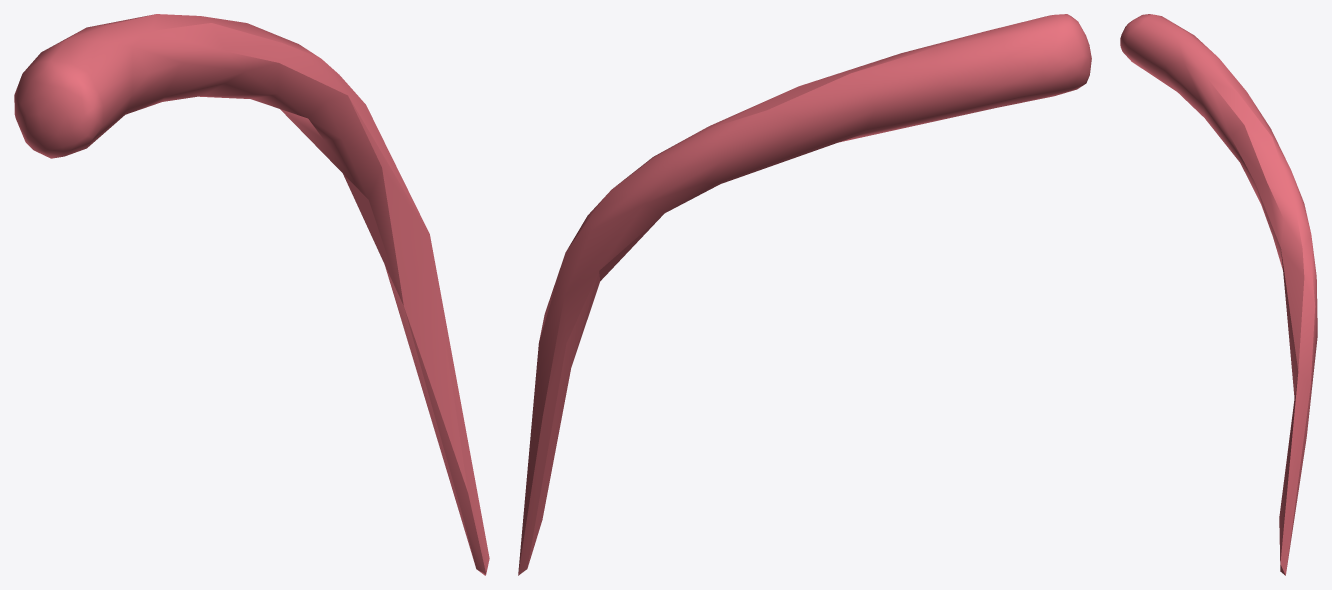
Rendered from fma70490_fj3474.glb.
The picture shows the model from 3 angles, left to right: view 1: azimuth 30°, elevation 25°; view 2: azimuth 150°, elevation 25°; view 3: azimuth 270°, elevation 25°; orthographic projection. The views are drawn at different scales.
Parts seen in each view (by area): view 1: FMA70490_FJ3474; view 2: FMA70490_FJ3474; view 3: FMA70490_FJ3474.
Part boxes in pixels (bbox=[...]): FMA70490_FJ3474: bbox=[14, 14, 489, 575]; FMA70490_FJ3474: bbox=[518, 14, 1091, 575]; FMA70490_FJ3474: bbox=[1120, 14, 1317, 575].
Bounding box in the file's own units: 0.00899 × 0.0108 × 0.00472.
